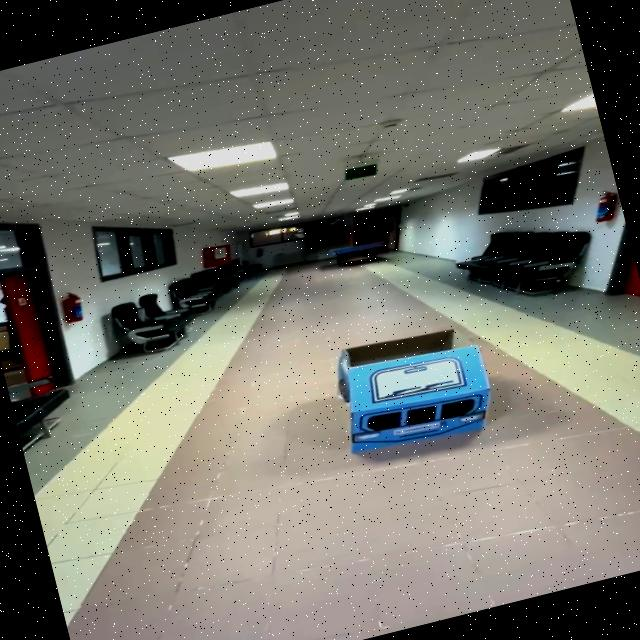blue_car: (288, 295, 530, 494)
